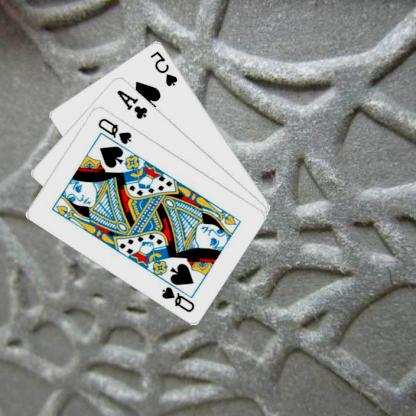5S: (149, 48, 181, 87)
AC: (115, 87, 150, 120)
QS: (97, 116, 135, 146), (161, 283, 198, 313)
